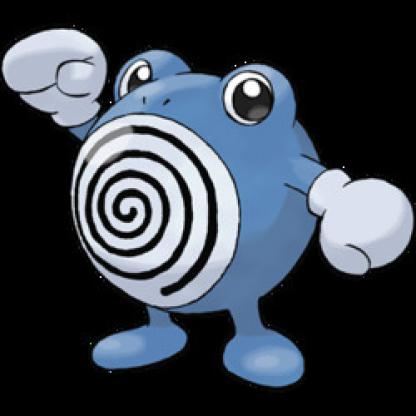Poliwhirl: (3, 20, 415, 391)
